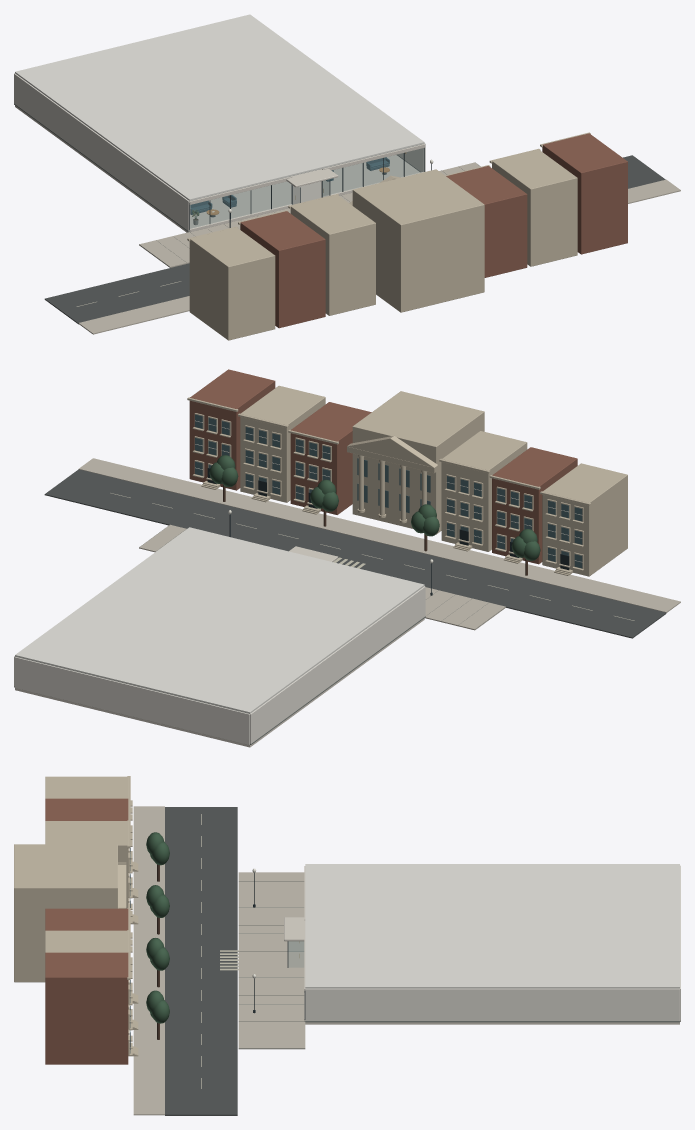
The model's file is precinct.glb.
3 views of the same model, one above another, from view 1: azimuth 30°, elevation 25°; view 2: azimuth 150°, elevation 25°; view 3: azimuth 270°, elevation 25° (orthographic). The views are drawn at different scales.
Parts seen in each view (by area): view 1: Precinct | White acoustic ceiling, Precinct | DC limestone, Precinct | Muted red brick, Precinct | Warm white plaster, Precinct | Asphalt, Precinct | Glazing, Precinct | Sidewalk, Precinct | Honed terrazzo, Precinct | Warm limestone, Precinct | Petrol upholstery, Precinct | Terrazzo border, Precinct | Powder coated charcoal; view 2: Precinct | White acoustic ceiling, Precinct | DC limestone, Precinct | Asphalt, Precinct | Muted red brick, Precinct | Warm white plaster, Precinct | Sidewalk, Precinct | Exterior glass, Precinct | Leaf sage, Precinct | Warm limestone, Precinct | Powder coated charcoal; view 3: Precinct | White acoustic ceiling, Precinct | Asphalt, Precinct | Sidewalk, Precinct | DC limestone, Precinct | Muted red brick, Precinct | Warm white plaster, Precinct | Leaf sage, Precinct | Warm limestone, Precinct | Terrazzo border.
Boxes of the visible parts, x1=… form: Precinct | White acoustic ceiling: x1=15, y1=14, x2=424, y2=200; Precinct | DC limestone: x1=187, y1=132, x2=590, y2=340; Precinct | Muted red brick: x1=240, y1=133, x2=627, y2=328; Precinct | Warm white plaster: x1=14, y1=73, x2=425, y2=231; Precinct | Asphalt: x1=44, y1=155, x2=665, y2=324; Precinct | Glazing: x1=190, y1=148, x2=423, y2=228; Precinct | Sidewalk: x1=78, y1=162, x2=680, y2=334; Precinct | Honed terrazzo: x1=190, y1=155, x2=419, y2=228; Precinct | Warm limestone: x1=15, y1=105, x2=424, y2=232; Precinct | Petrol upholstery: x1=190, y1=157, x2=389, y2=214; Precinct | Terrazzo border: x1=14, y1=103, x2=479, y2=266; Precinct | Powder coated charcoal: x1=189, y1=148, x2=431, y2=229; Precinct | White acoustic ceiling: x1=15, y1=527, x2=424, y2=713; Precinct | DC limestone: x1=187, y1=385, x2=627, y2=576; Precinct | Asphalt: x1=44, y1=469, x2=666, y2=638; Precinct | Muted red brick: x1=189, y1=369, x2=577, y2=564; Precinct | Warm white plaster: x1=14, y1=586, x2=425, y2=744; Precinct | Sidewalk: x1=79, y1=458, x2=680, y2=630; Precinct | Exterior glass: x1=195, y1=414, x2=582, y2=568; Precinct | Leaf sage: x1=209, y1=455, x2=540, y2=560; Precinct | Warm limestone: x1=15, y1=546, x2=424, y2=747; Precinct | Powder coated charcoal: x1=207, y1=468, x2=569, y2=595; Precinct | White acoustic ceiling: x1=305, y1=864, x2=679, y2=988; Precinct | Asphalt: x1=165, y1=807, x2=237, y2=1115; Precinct | Sidewalk: x1=133, y1=806, x2=305, y2=1115; Precinct | DC limestone: x1=14, y1=776, x2=138, y2=1056; Precinct | Muted red brick: x1=45, y1=798, x2=128, y2=1064; Precinct | Warm white plaster: x1=305, y1=865, x2=680, y2=1021; Precinct | Leaf sage: x1=146, y1=832, x2=169, y2=1023; Precinct | Warm limestone: x1=284, y1=866, x2=679, y2=1024; Precinct | Terrazzo border: x1=239, y1=881, x2=680, y2=1048.
Bounding box in the file's own units: 70 × 10.41 × 64.11.
